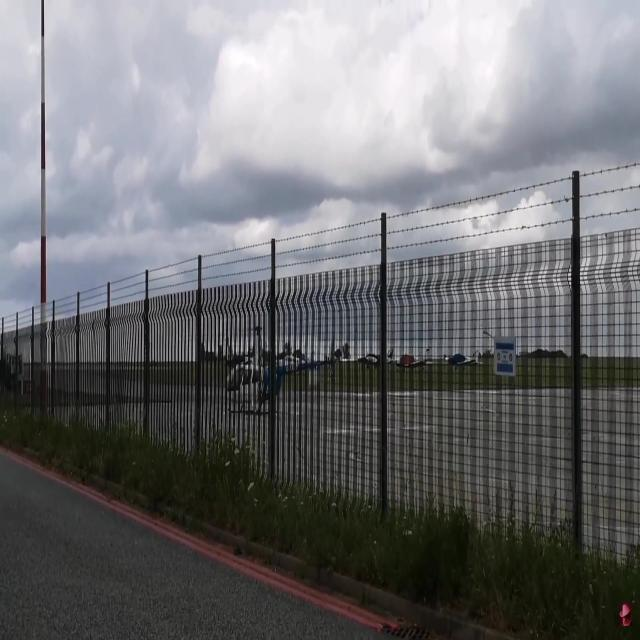CIV_HELO: (223, 323, 340, 415)
